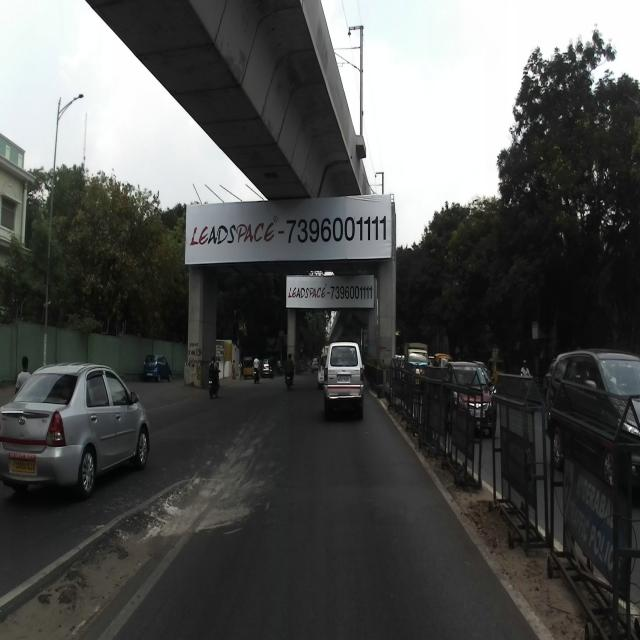Car_Chevrolet: (324, 339, 365, 420)
Car_Toyota: (0, 361, 150, 499), (544, 348, 640, 502)
